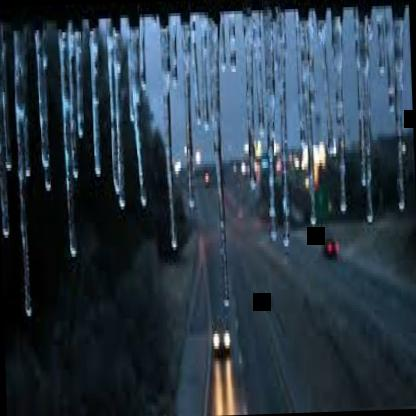car: (204, 291, 237, 363), (326, 224, 342, 265)
